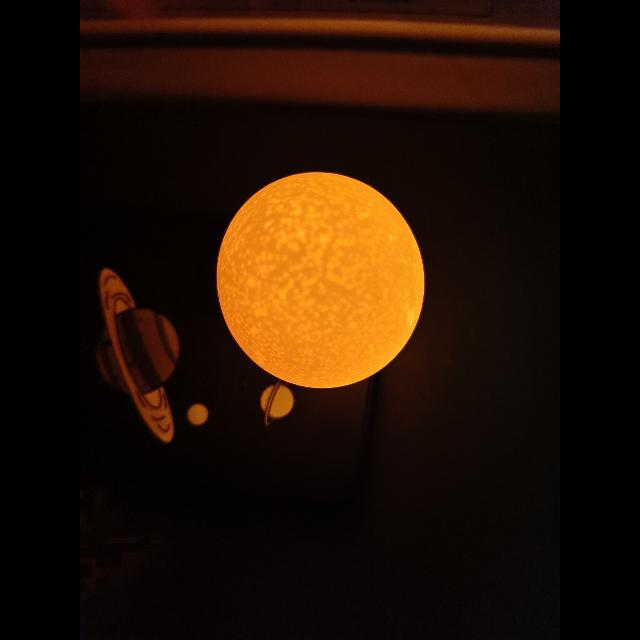AA - Premium: (216, 173, 424, 388)
